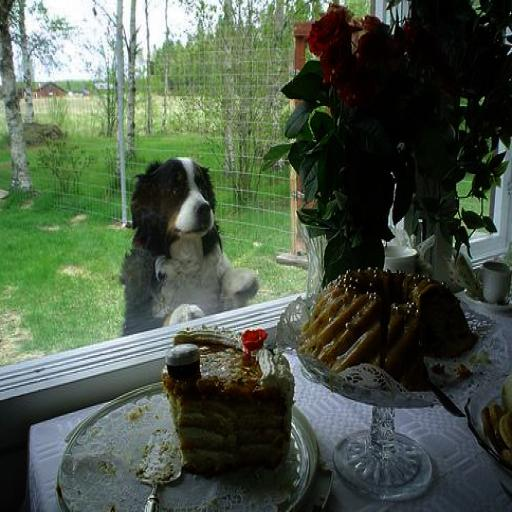dog_face: (128, 159, 221, 244)
